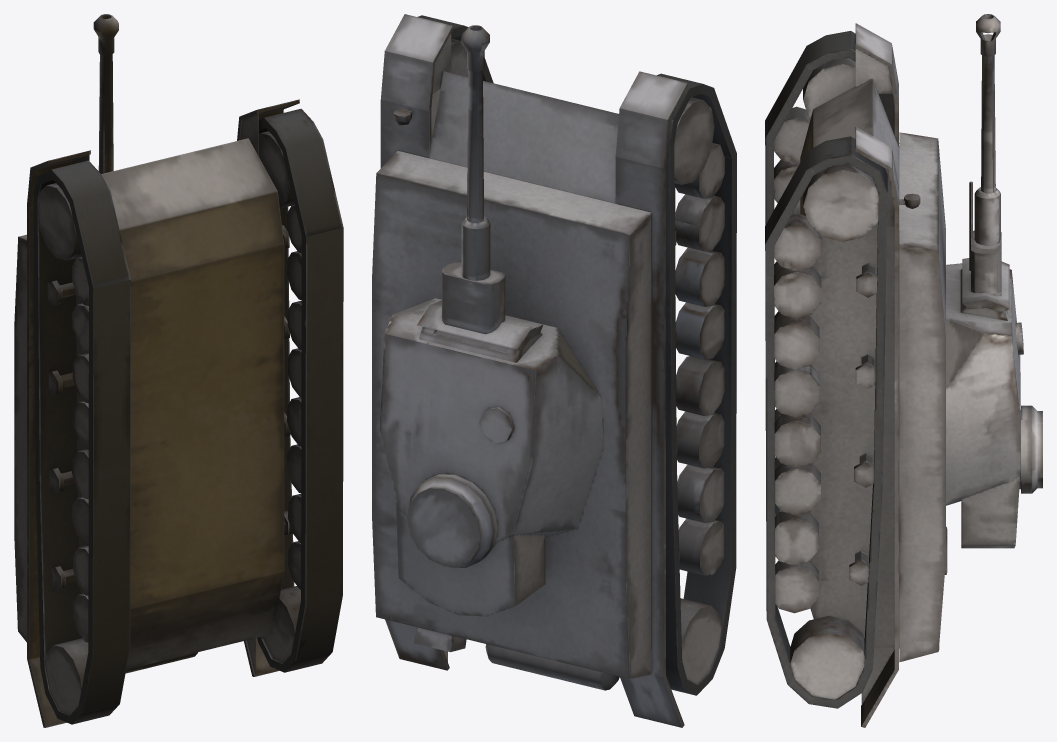
The picture shows the model from 3 angles, left to right: view 1: azimuth 30°, elevation 25°; view 2: azimuth 150°, elevation 25°; view 3: azimuth 270°, elevation 25°; orthographic projection. The views are drawn at different scales.
Parts seen in each view (by area): view 1: Pz.IV_F2 Body, Pz.IV_F2 Turret; view 2: Pz.IV_F2 Body, Pz.IV_F2 Turret; view 3: Pz.IV_F2 Body, Pz.IV_F2 Turret.
Part boxes in pixels (x1,y1,x2,y2): Pz.IV_F2 Body: (14, 99, 343, 727); Pz.IV_F2 Turret: (93, 14, 118, 173); Pz.IV_F2 Body: (372, 14, 736, 727); Pz.IV_F2 Turret: (379, 25, 603, 616); Pz.IV_F2 Body: (765, 23, 947, 727); Pz.IV_F2 Turret: (946, 14, 1042, 548).
Bounding box in the file's own units: 112 × 271 × 105.
